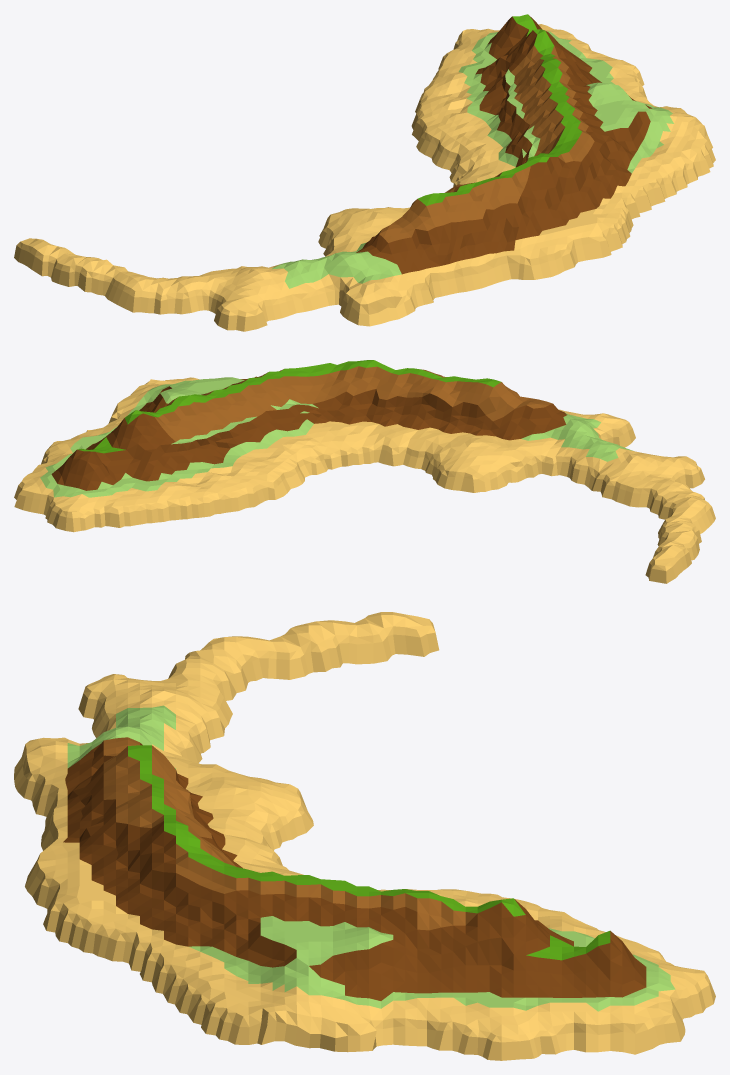
Rendered from Island_C01_LargeThick_Model.fbx.
3 views of the same model, one above another, from view 1: azimuth 30°, elevation 25°; view 2: azimuth 150°, elevation 25°; view 3: azimuth 270°, elevation 25° (orthographic). The views are drawn at different scales.
Parts seen in each view (by area): view 1: LargeBigIsland_Thick; view 2: LargeBigIsland_Thick; view 3: LargeBigIsland_Thick.
Part boxes in pixels (box(x1,y1,x2,y2)): LargeBigIsland_Thick: box(14, 14, 715, 331); LargeBigIsland_Thick: box(14, 360, 715, 583); LargeBigIsland_Thick: box(14, 612, 715, 1060).
Bounding box in the file's own units: 408 × 45.23 × 285.
